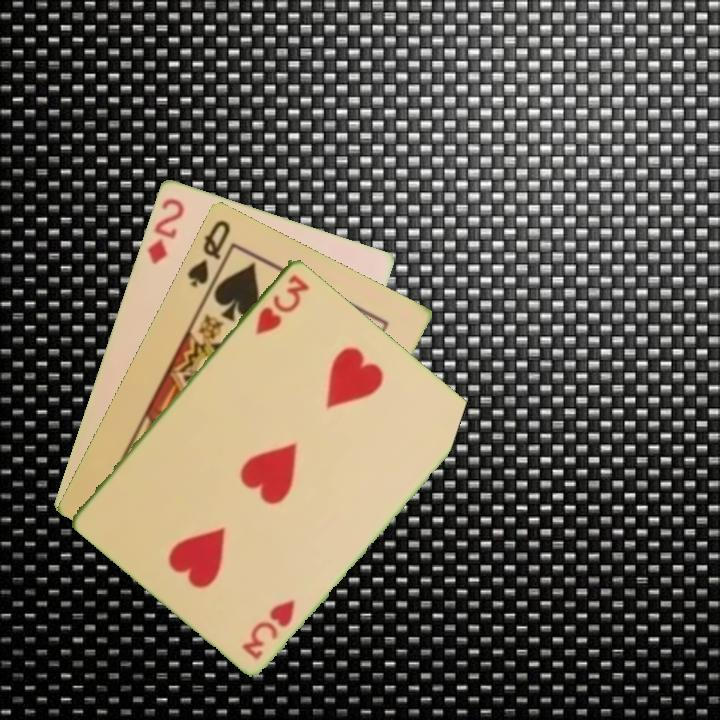2d: (143, 194, 187, 267)
3h: (252, 270, 313, 337), (238, 595, 298, 662)
Qs: (183, 215, 234, 290)
